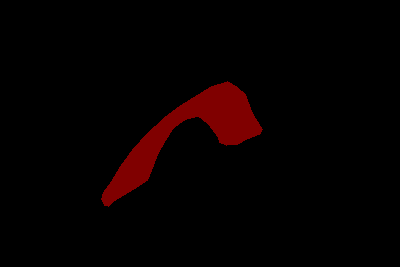fire: (101, 81, 262, 206)
